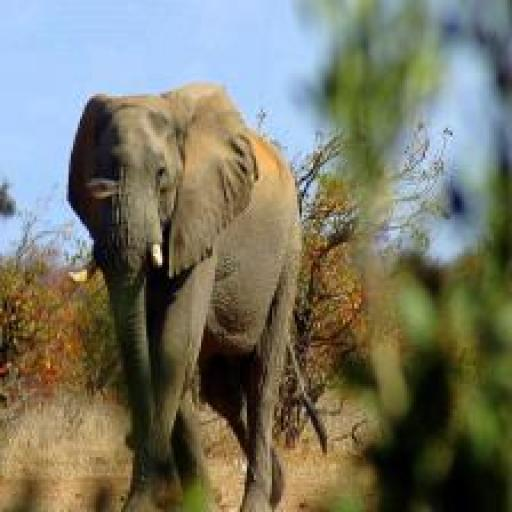Elephant: (68, 84, 305, 512)
